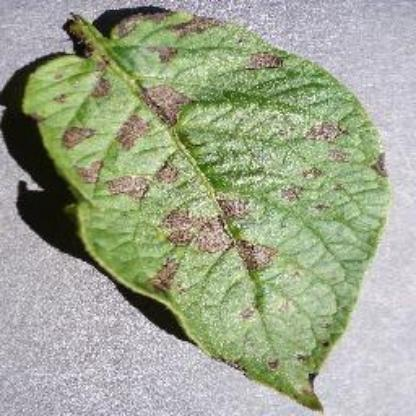Early-Blight: (13, 0, 400, 414)
